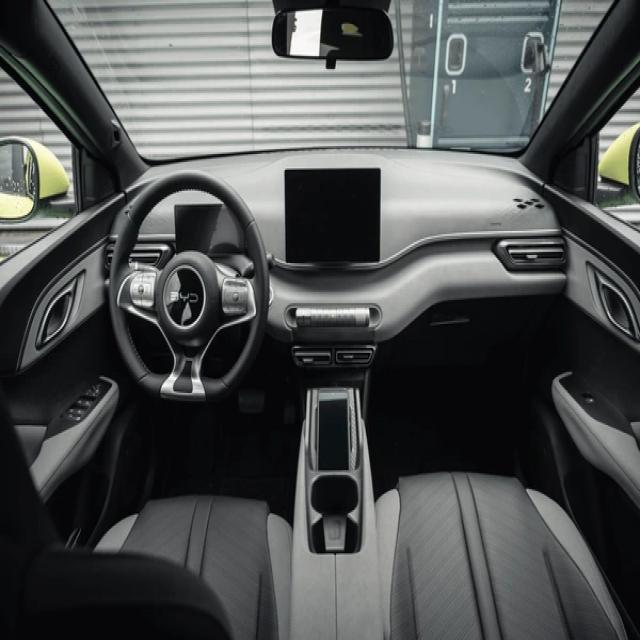byd: (168, 287, 200, 304)
